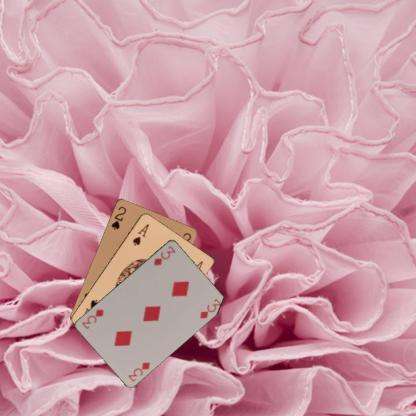2s: (109, 204, 127, 231)
3d: (151, 243, 177, 267), (126, 360, 152, 382)
As: (130, 220, 150, 246)
